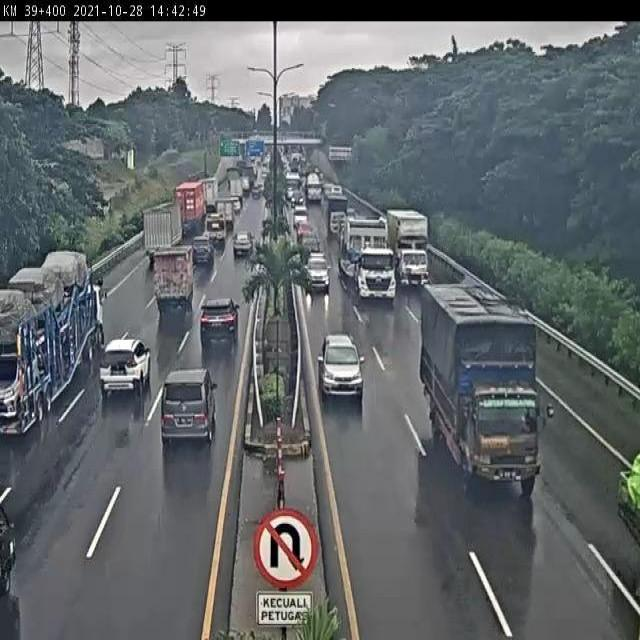big truck: (0, 248, 108, 435)
car: (160, 369, 219, 443), (97, 335, 149, 400), (317, 333, 365, 399), (196, 296, 238, 341), (306, 254, 331, 294), (300, 232, 322, 263), (192, 237, 216, 264), (233, 229, 256, 255)
mid truck: (202, 212, 226, 243)
truck-l-: (421, 279, 554, 492), (385, 209, 431, 296)
truck-m-: (153, 240, 196, 319), (140, 201, 186, 259)
truck-xl-: (340, 219, 399, 312)
